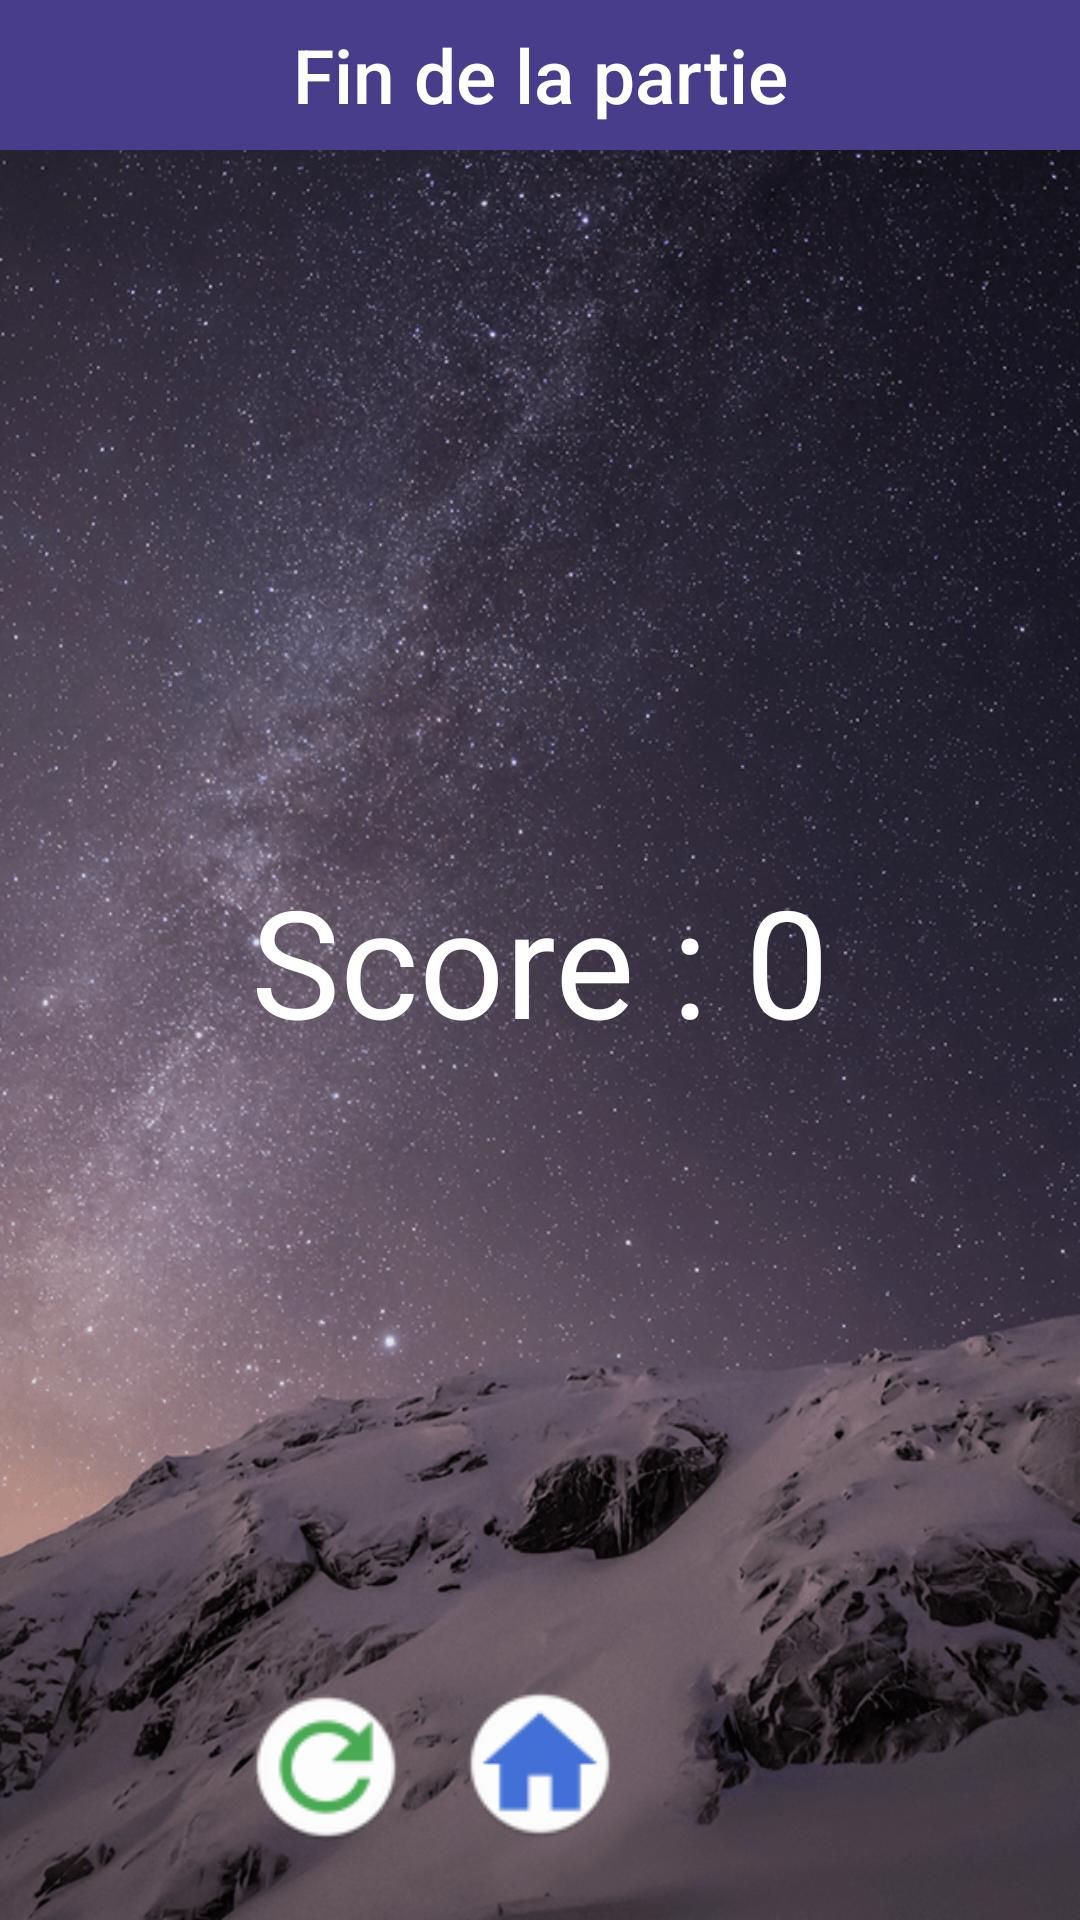

Screen size 1080w x 1920h. Icon name, then its box in pixels as (x1, y1, x2, y2):
homeicon: (465, 1694, 610, 1834)
replayicon: (251, 1692, 401, 1842)
